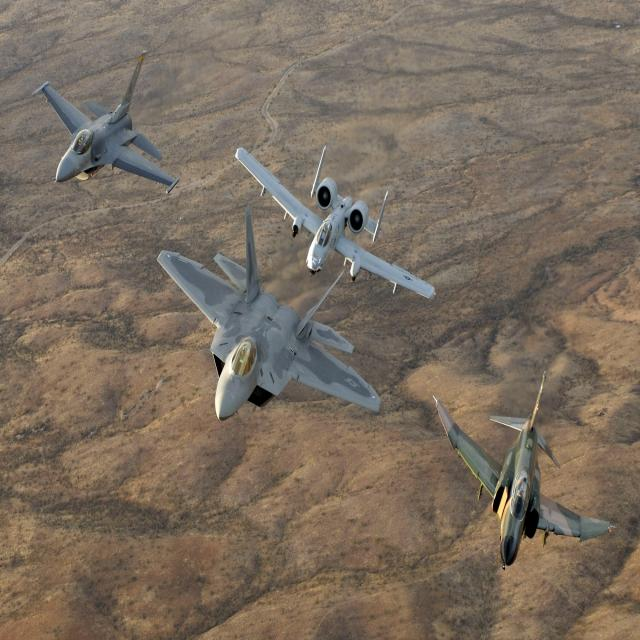MIL_Plane: (156, 204, 380, 421), (431, 370, 615, 572), (235, 144, 435, 302), (32, 49, 180, 194)
